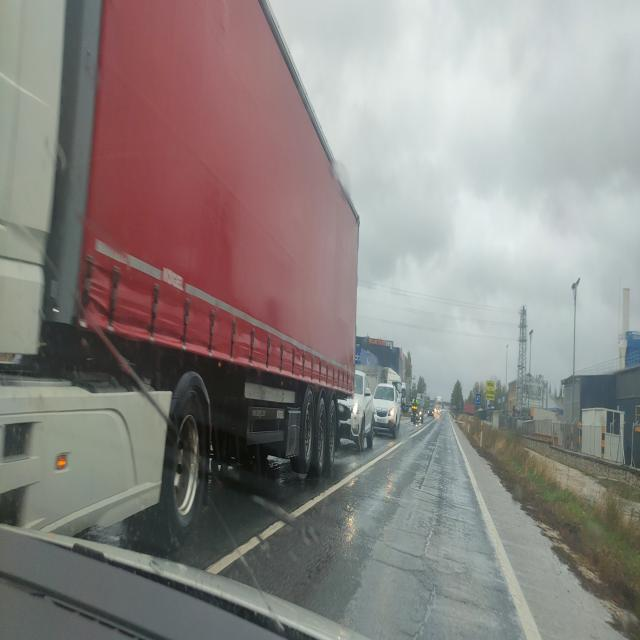Poth-hole: (369, 551, 441, 640), (382, 539, 429, 562), (419, 495, 437, 552)
